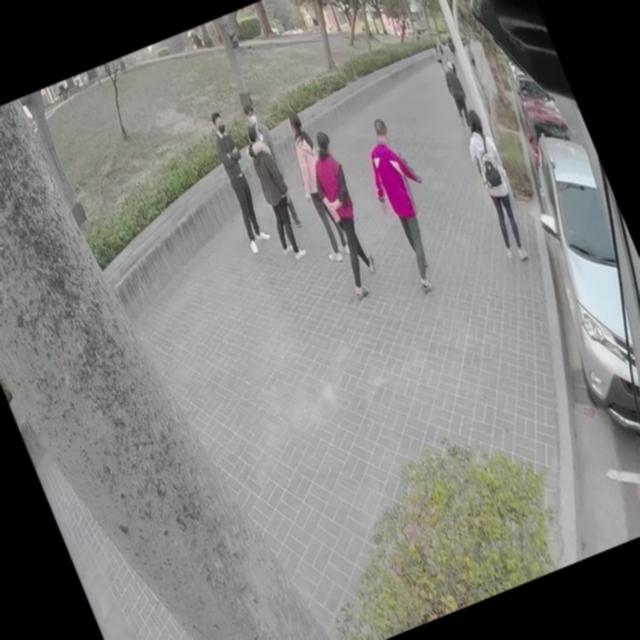person: (350, 110, 460, 296), (294, 124, 390, 300), (451, 104, 538, 264), (274, 104, 354, 260), (233, 88, 313, 240), (200, 106, 278, 255), (236, 122, 308, 260), (436, 61, 474, 126), (437, 38, 460, 78), (428, 38, 446, 72)
